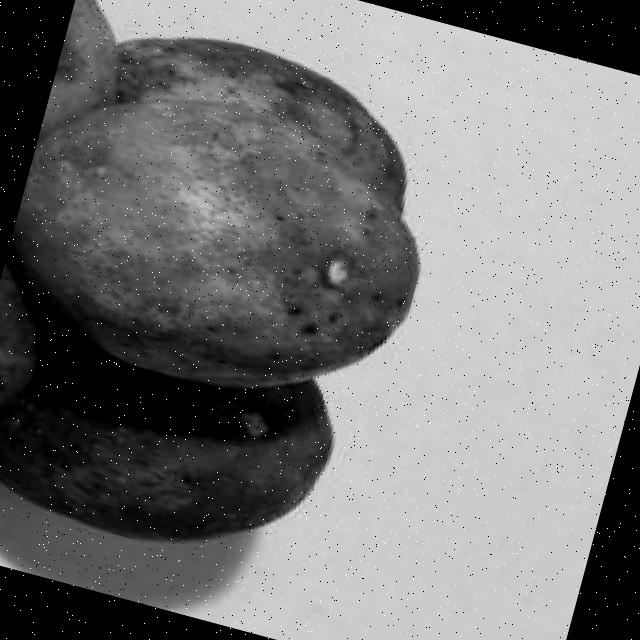overripe: (0, 50, 459, 435)
